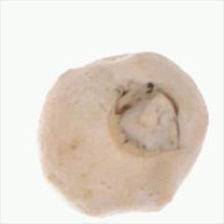L3: (108, 84, 182, 158)
L4: (37, 51, 210, 216)
